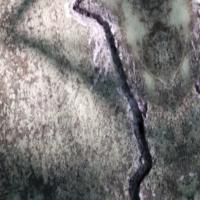crack: (67, 0, 180, 199)
